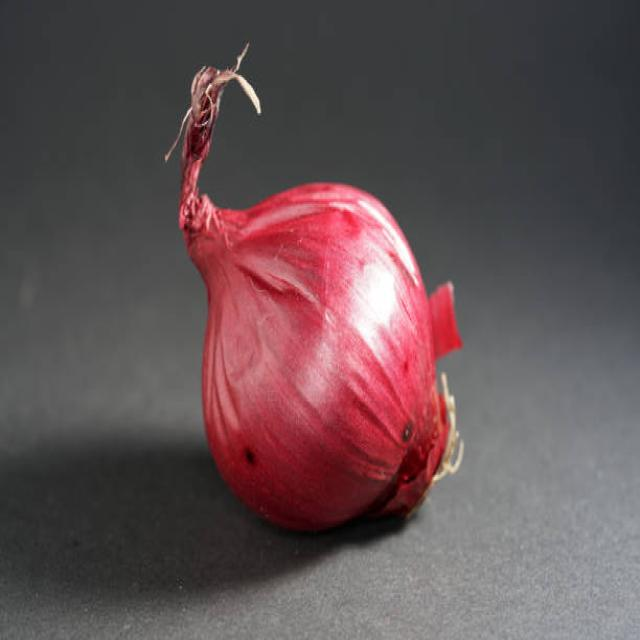onion: (191, 181, 452, 538)
